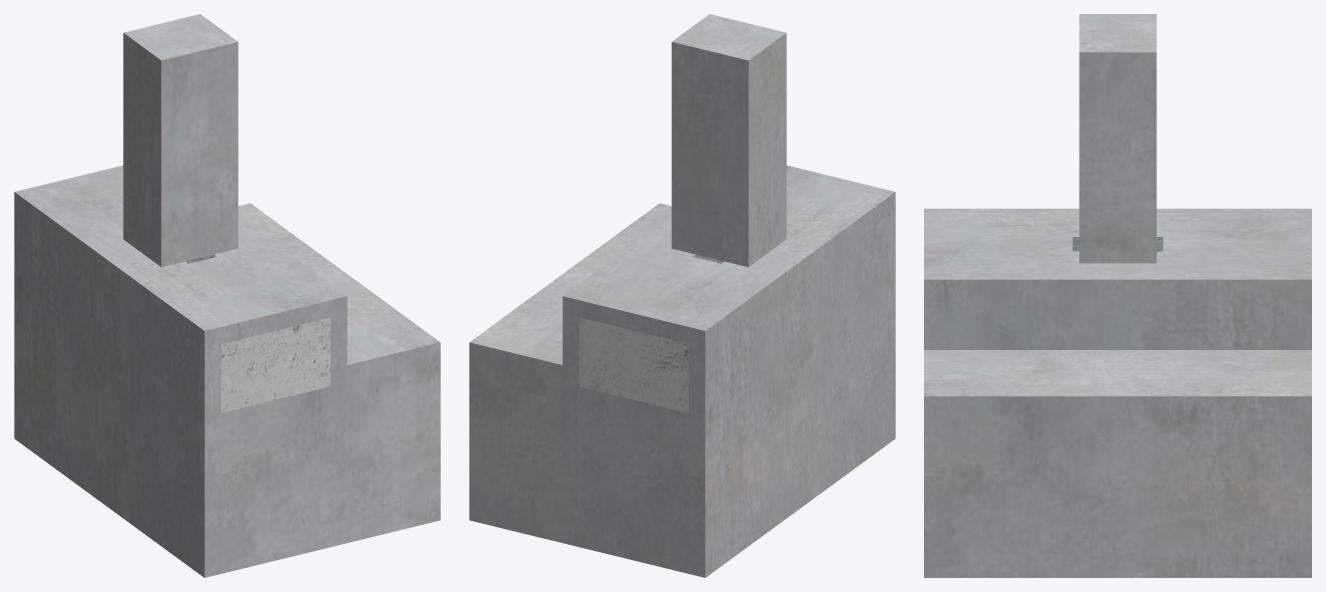
Rendered from balcony-railing-dowel.glb.
3 renders of one model, left to right at view 1: azimuth 30°, elevation 25°; view 2: azimuth 150°, elevation 25°; view 3: azimuth 270°, elevation 25°, orthographic. The views are drawn at different scales.
Parts seen in each view (by area): view 1: 饰面包覆, 阳台板, 栏杆脚, 现浇挡水带; view 2: 饰面包覆, 阳台板, 栏杆脚, 现浇挡水带; view 3: 饰面包覆, 阳台板, 栏杆脚.
Boxes of the visible parts, x1,y1,x2,y2 form: 饰面包覆: [14, 165, 440, 577]; 阳台板: [221, 359, 440, 556]; 栏杆脚: [123, 14, 238, 267]; 现浇挡水带: [221, 317, 330, 412]; 饰面包覆: [469, 165, 895, 577]; 阳台板: [469, 359, 688, 556]; 栏杆脚: [671, 14, 786, 267]; 现浇挡水带: [579, 317, 688, 412]; 饰面包覆: [924, 208, 1311, 577]; 阳台板: [924, 414, 1311, 560]; 栏杆脚: [1079, 14, 1156, 263].
Bounding box in the file's own units: 0.215 × 0.395 × 0.3.
6 materials, 5 textured.
